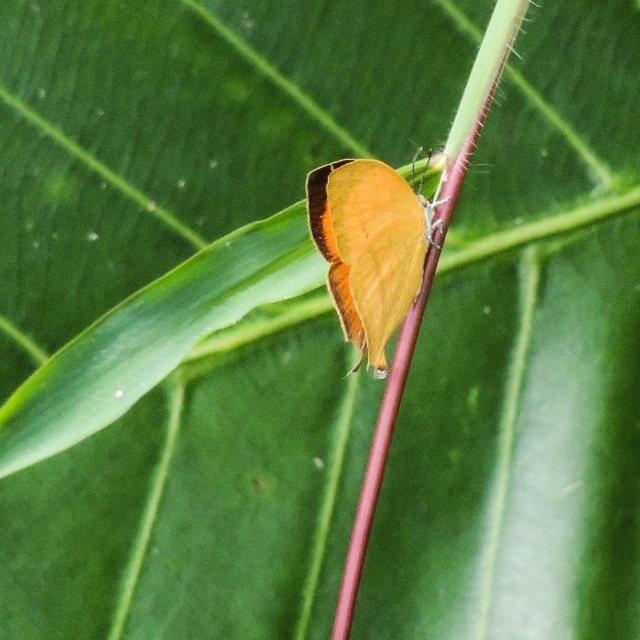Butterfly: (305, 145, 451, 378)
